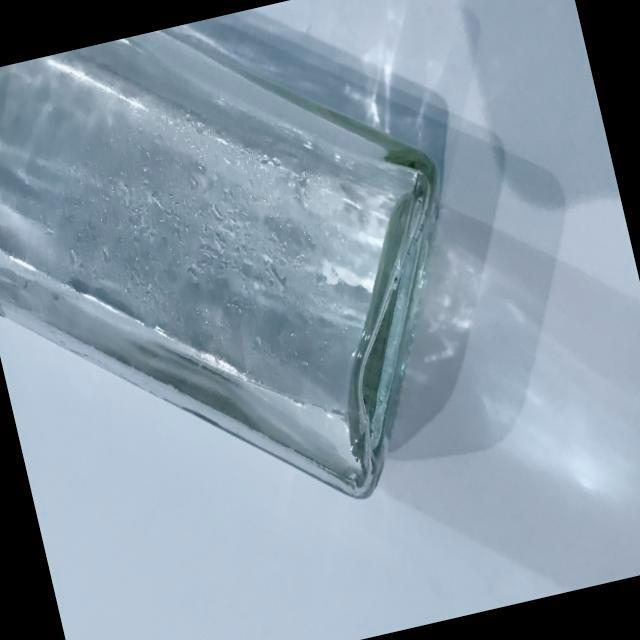glass: (0, 0, 530, 604)
